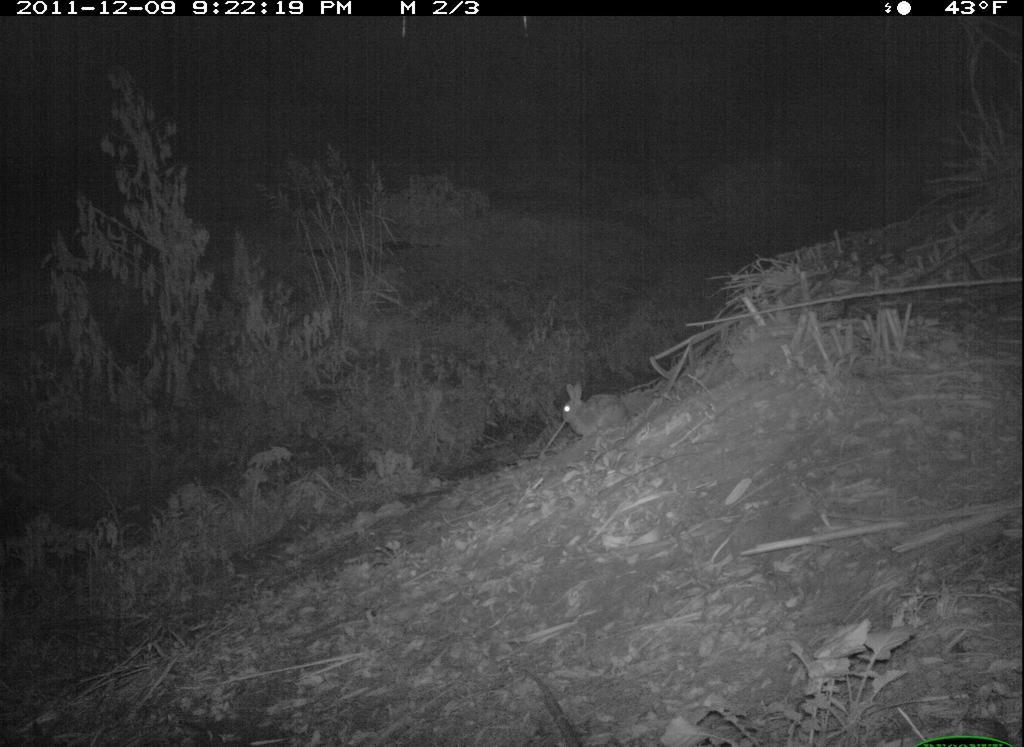rabbit: (555, 377, 633, 447)
